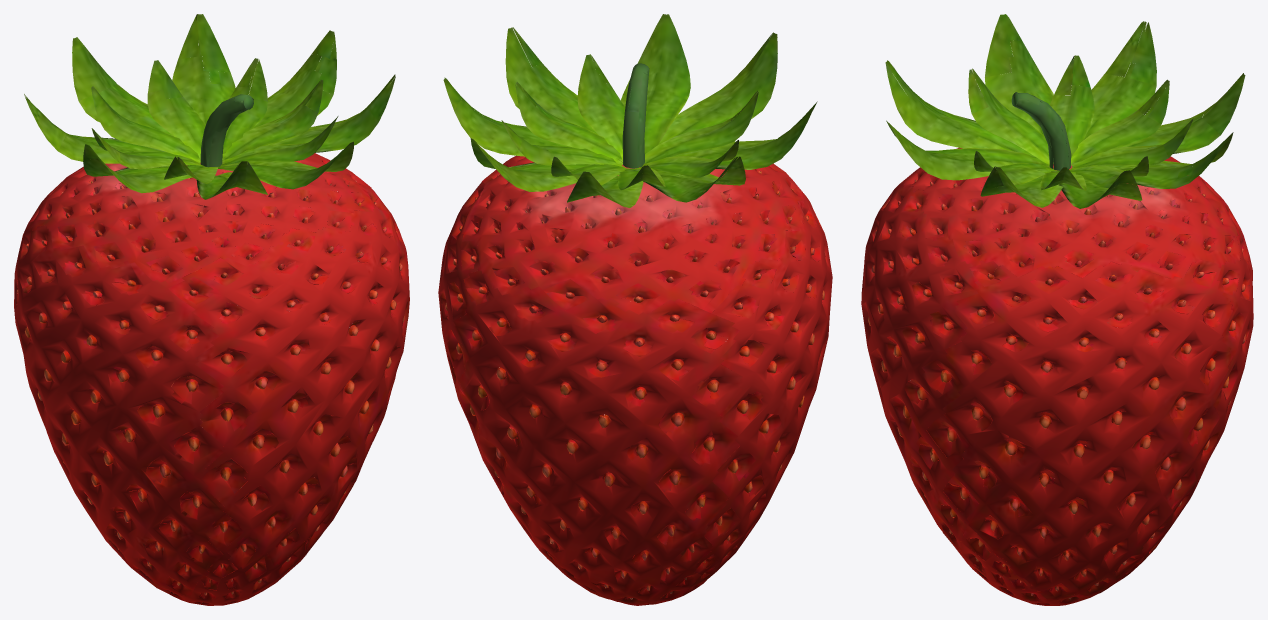
Rendered from strawberry.glb.
3 renders of one model, left to right at view 1: azimuth 30°, elevation 25°; view 2: azimuth 150°, elevation 25°; view 3: azimuth 270°, elevation 25°, orthographic.
Parts seen in each view (by area): view 1: strawberry; view 2: strawberry; view 3: strawberry.
Part boxes in pixels (x1,y1,x2,y2): strawberry: (14,14,409,605); strawberry: (438,14,832,605); strawberry: (861,14,1253,605).
Bounding box in the file's own units: 1 × 1.45 × 0.9998.
Materials: 1 (1 with a texture image).
